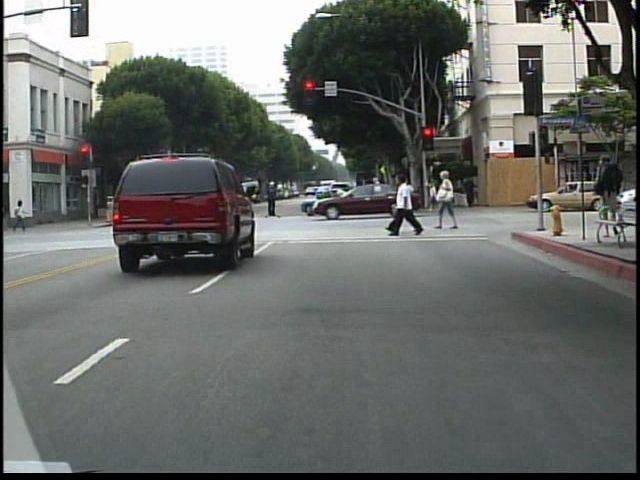person: (393, 174, 427, 243), (591, 149, 623, 207), (435, 172, 465, 233), (392, 175, 409, 235), (369, 175, 390, 217), (144, 189, 161, 232), (400, 177, 418, 215), (123, 192, 139, 232), (266, 177, 280, 221), (13, 200, 30, 235), (355, 178, 372, 208), (2, 200, 16, 235)
